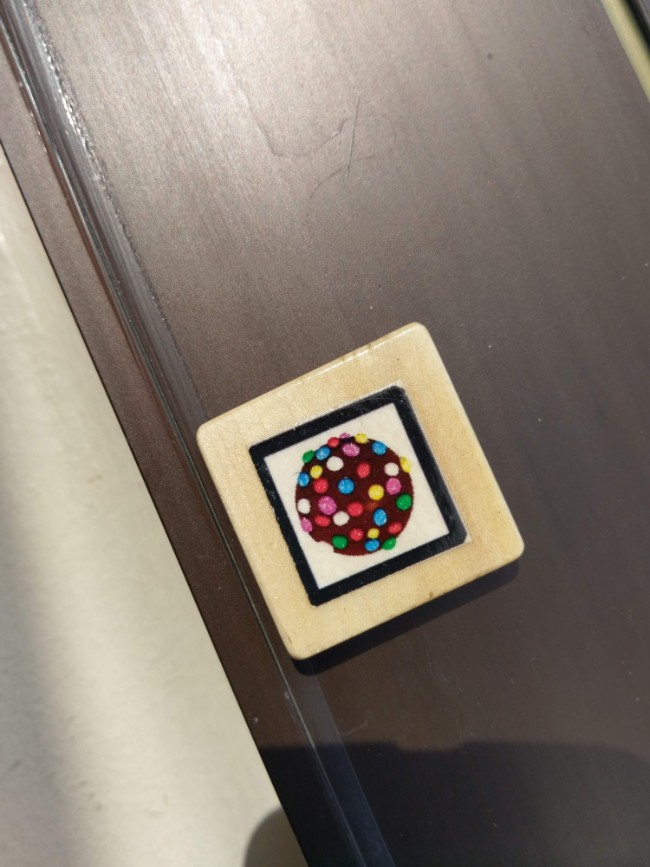cookie: (208, 372, 499, 605)
